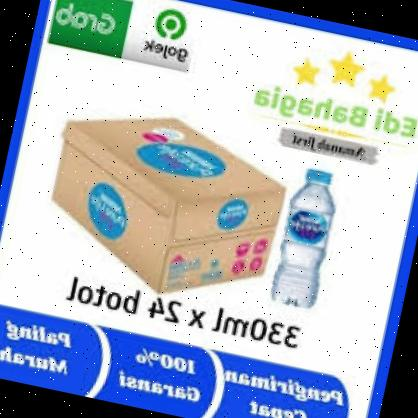bottle: (270, 163, 343, 312)
cap: (300, 165, 336, 193)
label: (277, 204, 334, 245)
